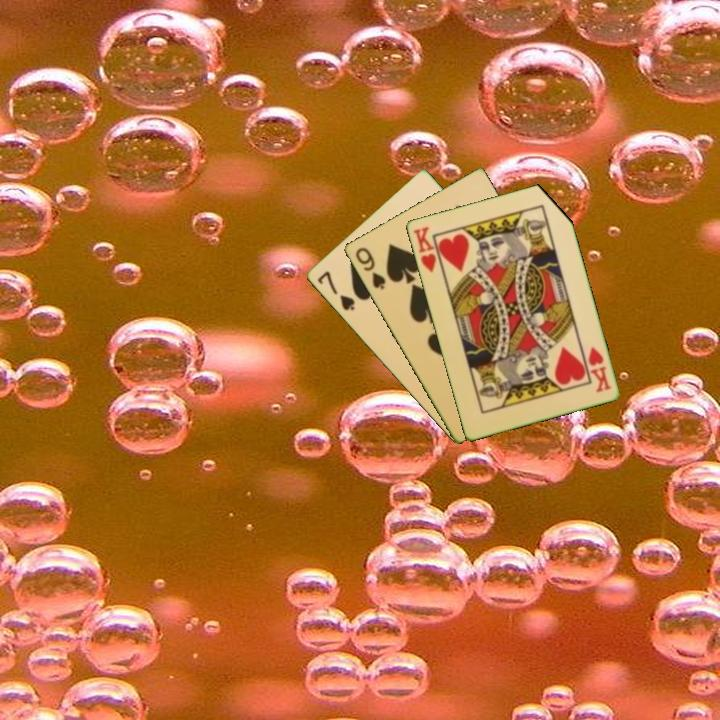7s: (313, 267, 358, 314)
9s: (351, 244, 388, 293)
Kh: (409, 223, 445, 276), (584, 343, 613, 395)
